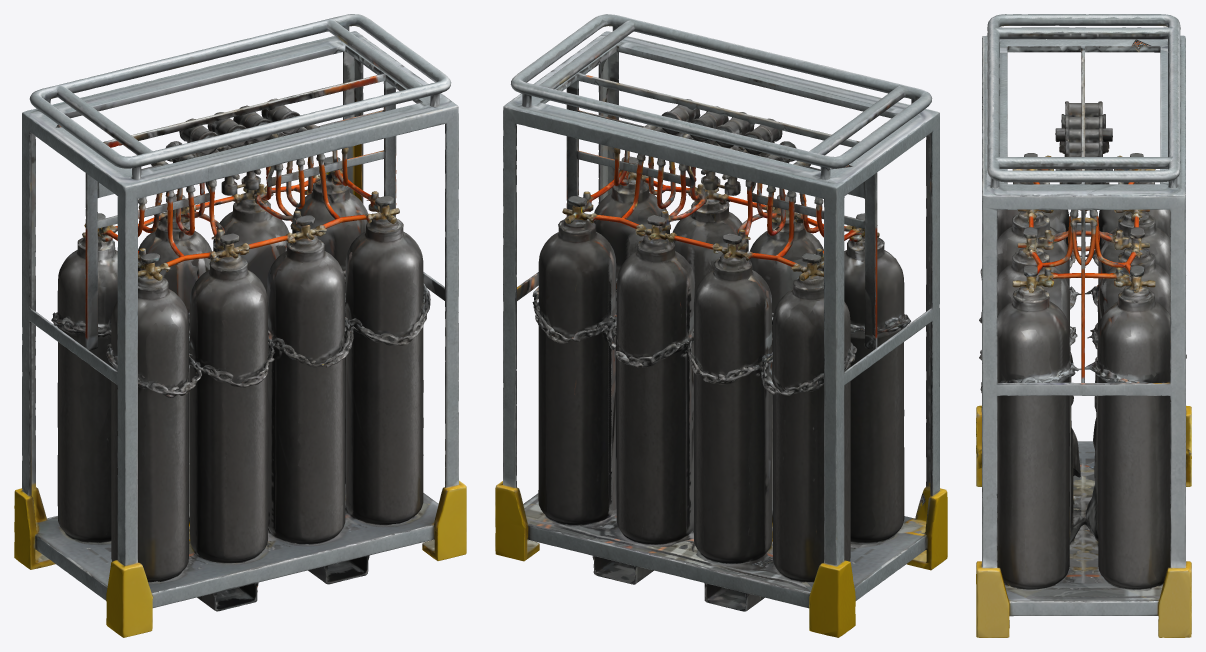
File: Props_GasCylinderRack.fbx
The picture shows the model from 3 angles, left to right: view 1: azimuth 30°, elevation 25°; view 2: azimuth 150°, elevation 25°; view 3: azimuth 270°, elevation 25°; orthographic projection.
Visible parts, largest first — view 1: Props_GasCylinderRack; view 2: Props_GasCylinderRack; view 3: Props_GasCylinderRack.
Part boxes in pixels (x1,y1,x2,y2): Props_GasCylinderRack: [14, 14, 466, 637]; Props_GasCylinderRack: [495, 14, 947, 637]; Props_GasCylinderRack: [976, 14, 1191, 637].
Bounding box in the file's own units: 76.54 × 100 × 42.2.
